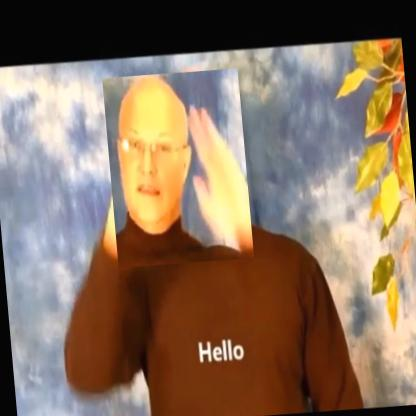Hello: (102, 66, 254, 269)
